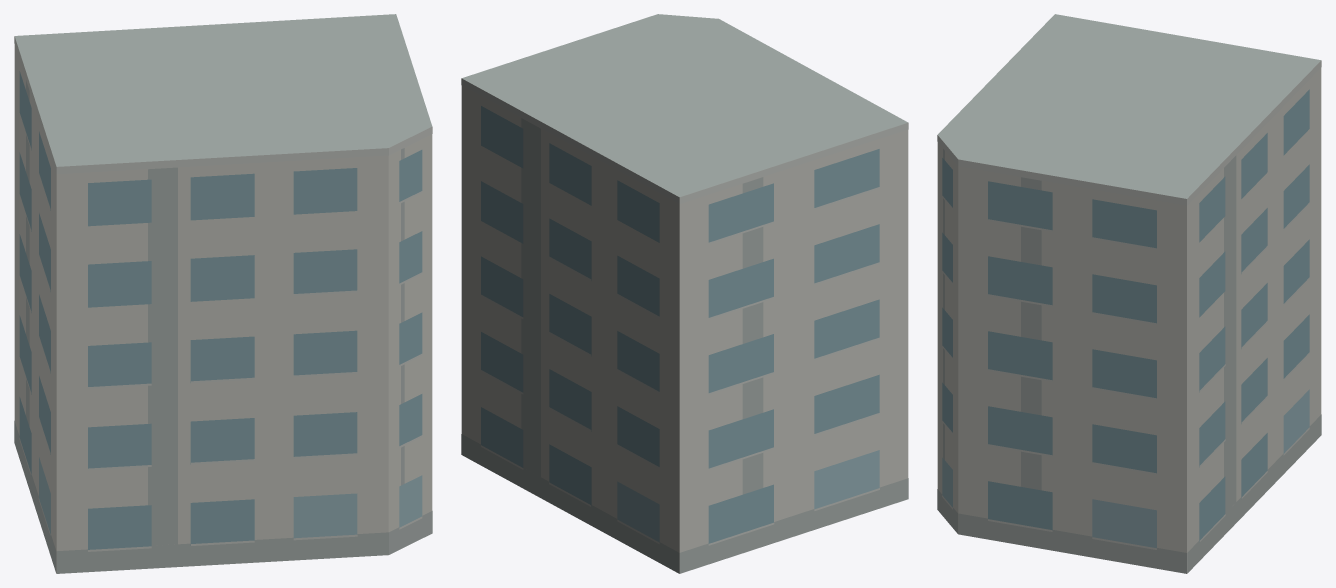
Rendered from survey-upis-32871822.glb.
3 views of the same model, side by side, from view 1: azimuth 30°, elevation 25°; view 2: azimuth 150°, elevation 25°; view 3: azimuth 270°, elevation 25° (orthographic). The views are drawn at different scales.
Parts seen in each view (by area): view 1: survey-upis-32871822.tmp; view 2: survey-upis-32871822.tmp; view 3: survey-upis-32871822.tmp.
Boxes of the visible parts, x1,y1,x2,y2 form: survey-upis-32871822.tmp: [14, 14, 432, 573]; survey-upis-32871822.tmp: [461, 14, 908, 573]; survey-upis-32871822.tmp: [937, 14, 1321, 573].
Size of the model in its own units: 13.97 by 13.2 by 12.26.
